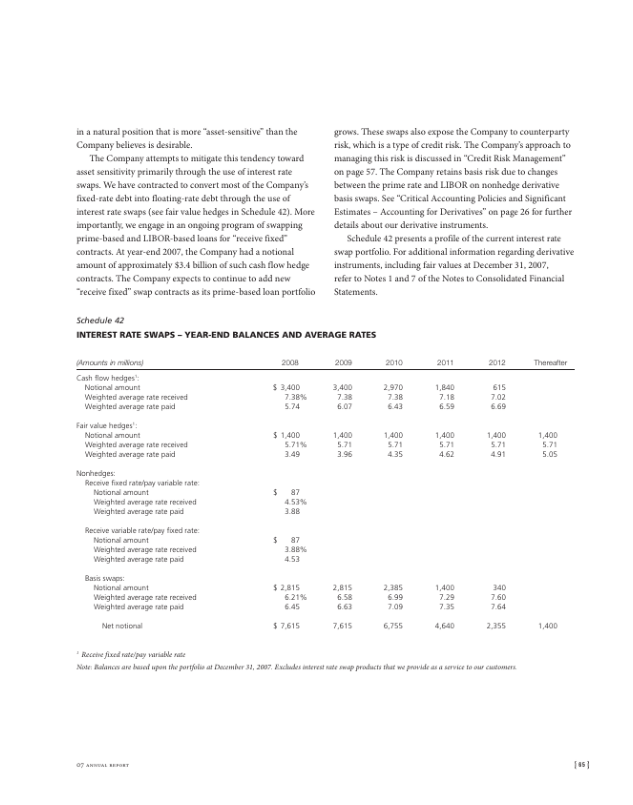table: (69, 347, 576, 646)
